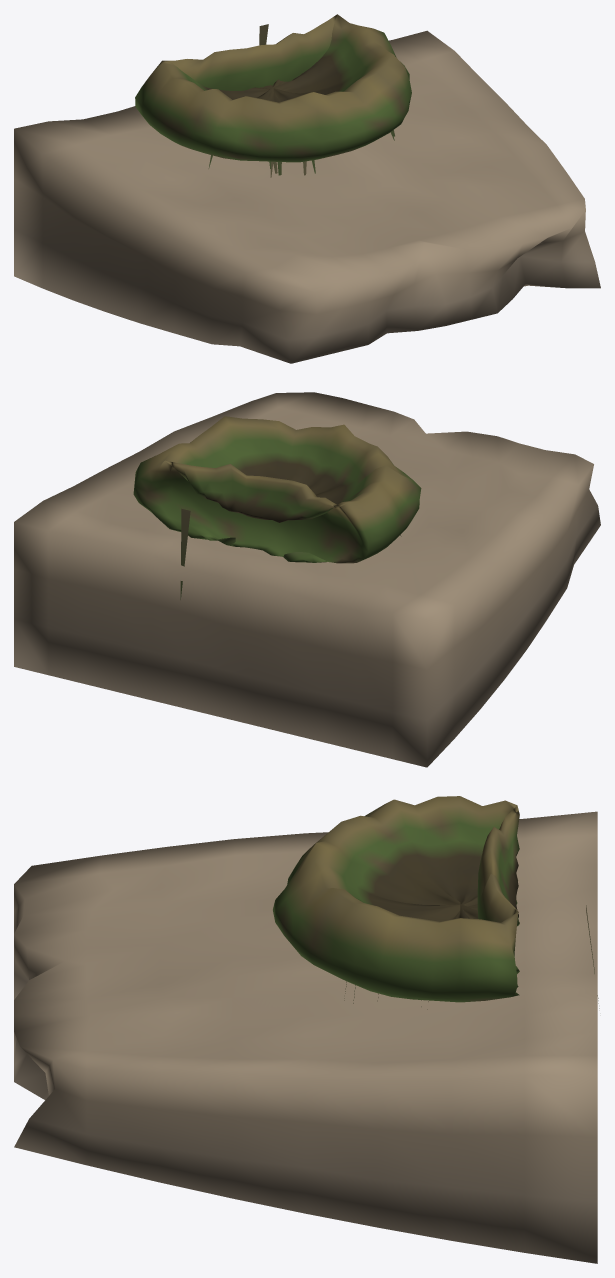
File: swift_nest.glb
3 views of the same model, one above another, from view 1: azimuth 30°, elevation 25°; view 2: azimuth 150°, elevation 25°; view 3: azimuth 270°, elevation 25° (orthographic). The views are drawn at different scales.
Visible parts, largest first — view 1: swift_ledge, swift_nest; view 2: swift_ledge, swift_nest; view 3: swift_ledge, swift_nest.
Part boxes in pixels (bbox=[...]): swift_ledge: bbox=[14, 30, 600, 363]; swift_nest: bbox=[135, 14, 411, 177]; swift_ledge: bbox=[14, 392, 600, 767]; swift_nest: bbox=[133, 416, 421, 599]; swift_ledge: bbox=[14, 811, 597, 1263]; swift_nest: bbox=[273, 796, 599, 1009].
Size of the model in its own units: 0.36 by 0.1806 by 0.342.
